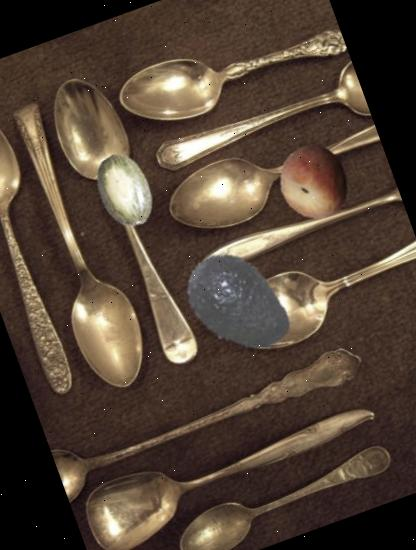Avocado: (165, 232, 312, 378)
Melon: (76, 143, 172, 239)
Peach: (267, 134, 363, 230)
